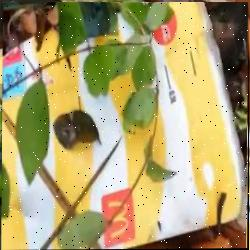restaffald: (1, 3, 249, 250)
